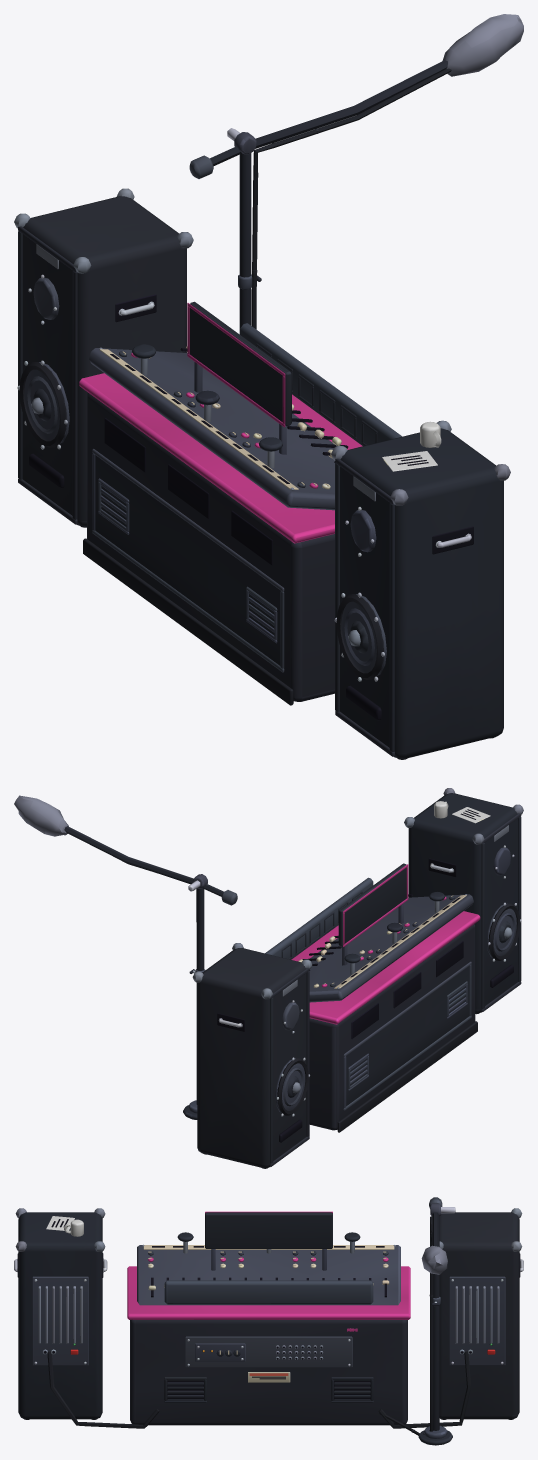
Rendered from SM_Station_SoundConsole.fbx.
3 renders of one model, top to bottom at view 1: azimuth 30°, elevation 25°; view 2: azimuth 150°, elevation 25°; view 3: azimuth 270°, elevation 25°, orthographic. The views are drawn at different scales.
Parts seen in each view (by area): view 1: SM_Station_SoundConsole; view 2: SM_Station_SoundConsole; view 3: SM_Station_SoundConsole.
Boxes of the visible parts, x1,y1,x2,y2 form: SM_Station_SoundConsole: (14, 14, 523, 759); SM_Station_SoundConsole: (14, 788, 523, 1168); SM_Station_SoundConsole: (14, 1197, 523, 1445).
Size of the model in its own units: 253 by 215 by 367.
